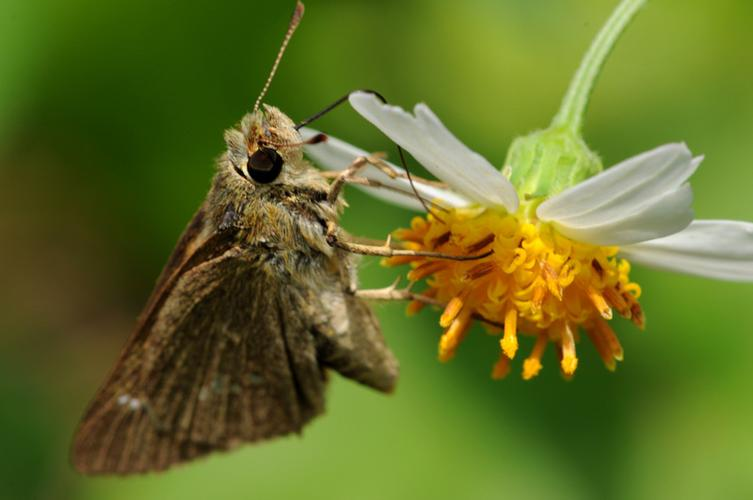Hesperiidae: (68, 2, 425, 481)
